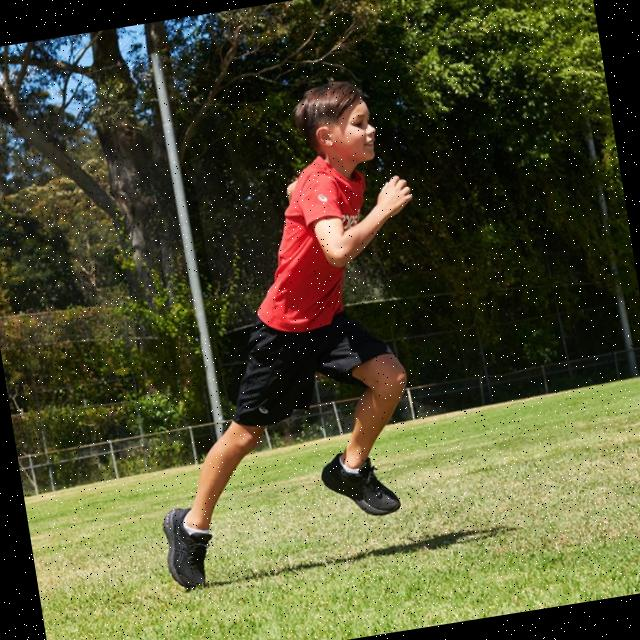Person: (97, 71, 467, 590)
